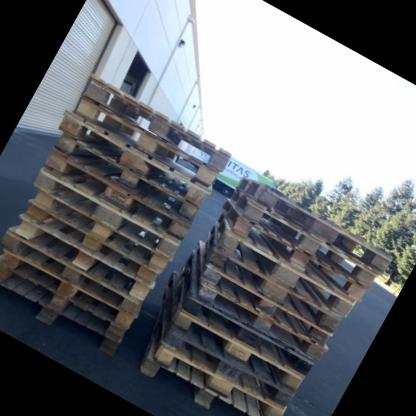BoxFace: (175, 265, 305, 396), (150, 293, 286, 416), (184, 249, 314, 377), (233, 174, 391, 274), (221, 199, 369, 305), (81, 73, 231, 176), (212, 214, 356, 321), (228, 189, 380, 287), (207, 226, 342, 333), (198, 240, 331, 348), (46, 144, 190, 243), (60, 108, 207, 203), (31, 169, 180, 261), (73, 98, 219, 189), (0, 231, 140, 320), (29, 188, 166, 275)
